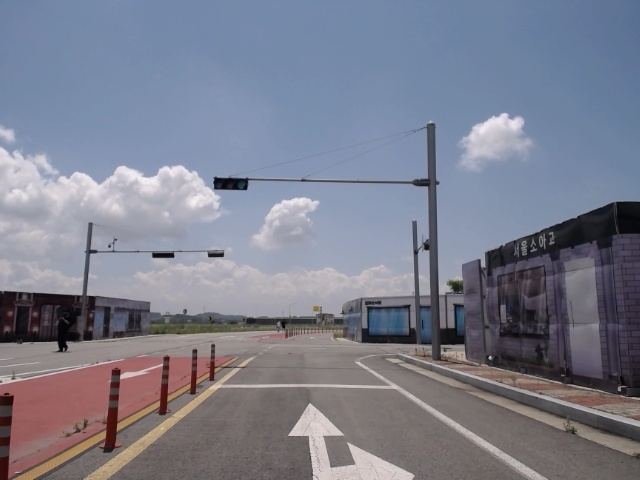green_3: (215, 179, 247, 190)
